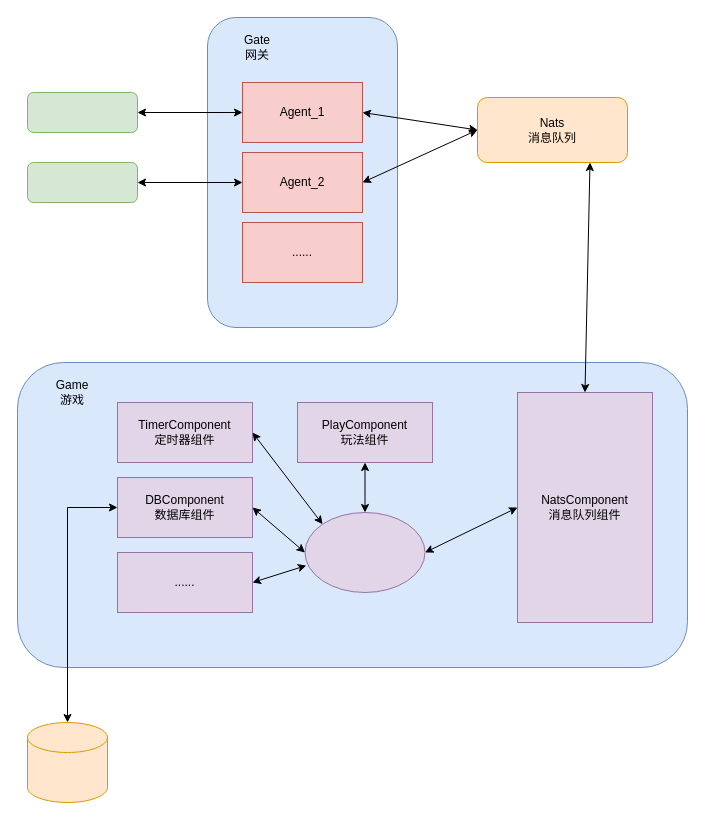
This 705x820 diagram has some shape labels left out. The shapes that lost their labels are listed below. From the top down, each one's box as (x1, y1, x2, y2) in pixels, then its label:
(26, 92, 138, 132): Client_1 客户端
(26, 162, 138, 202): Client_2 客户端
(304, 512, 425, 592): Broker 组件消息通讯
(26, 722, 108, 802): Database 数据库
